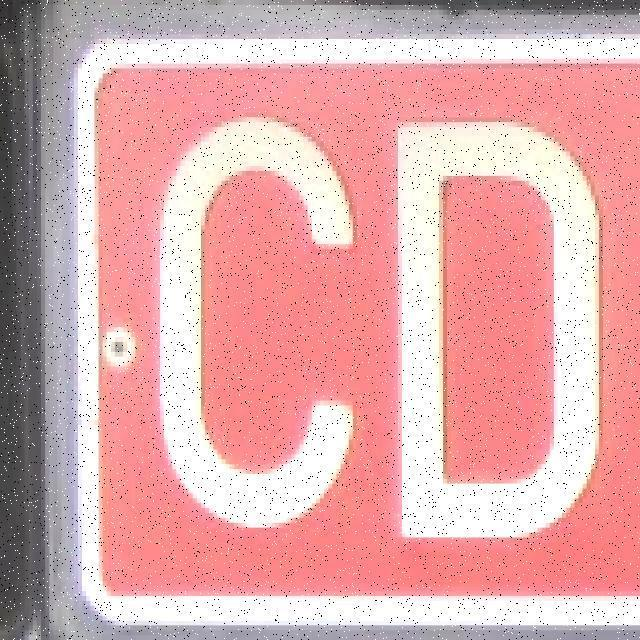LicensePlate: (64, 19, 640, 637)
